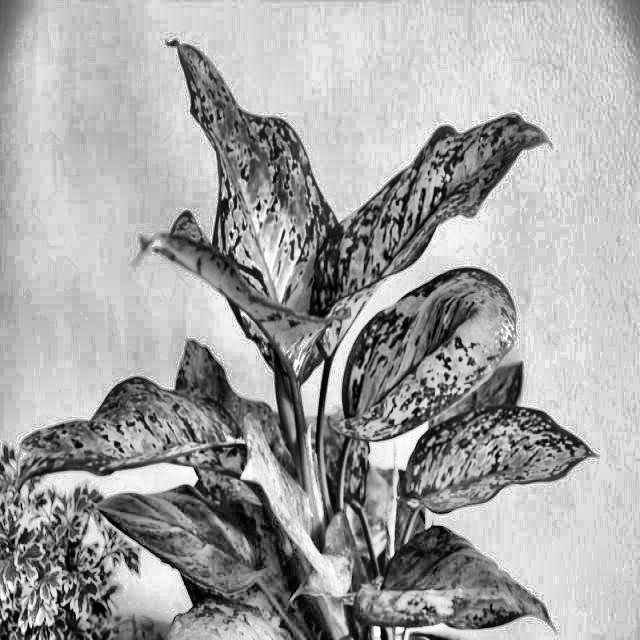plants: (34, 30, 591, 639)
